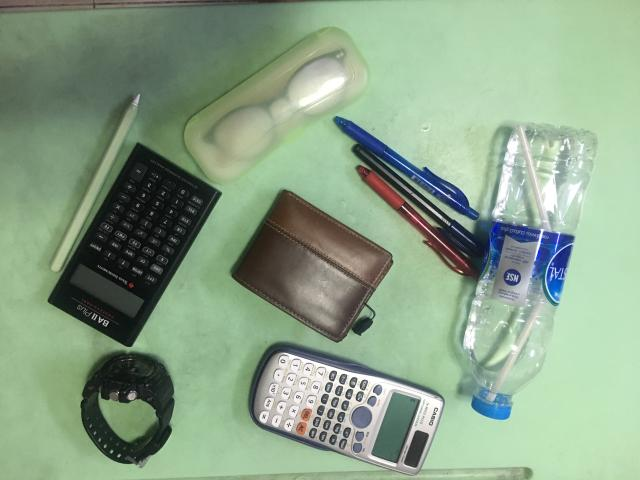Glasses: (185, 28, 369, 184)
Pen: (334, 118, 485, 278)
Wallet: (230, 190, 394, 342)
Watch: (81, 355, 175, 468)
bottle: (464, 124, 598, 419)
